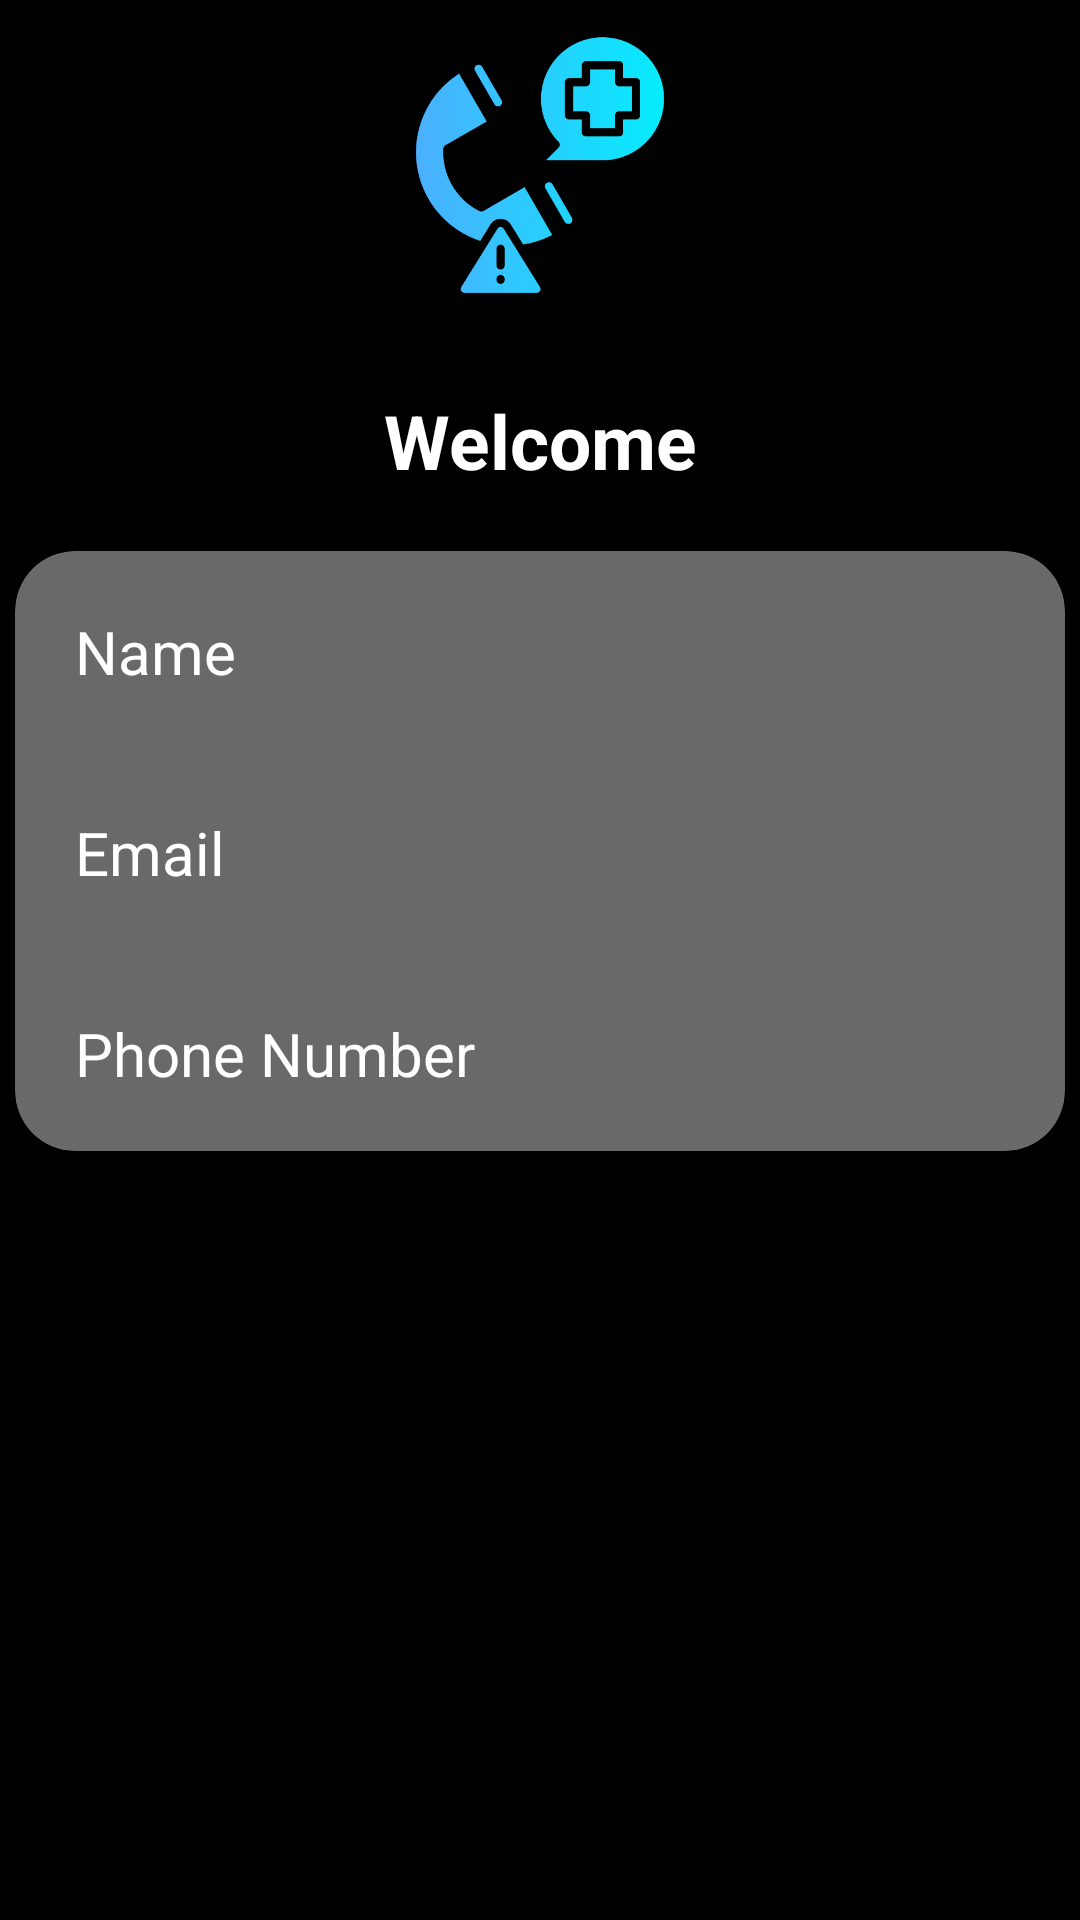

Where icons sit on this 1080px x 1920px app screen, as box(x1, y1, x2, y2):
emergency: box(416, 37, 664, 293)
